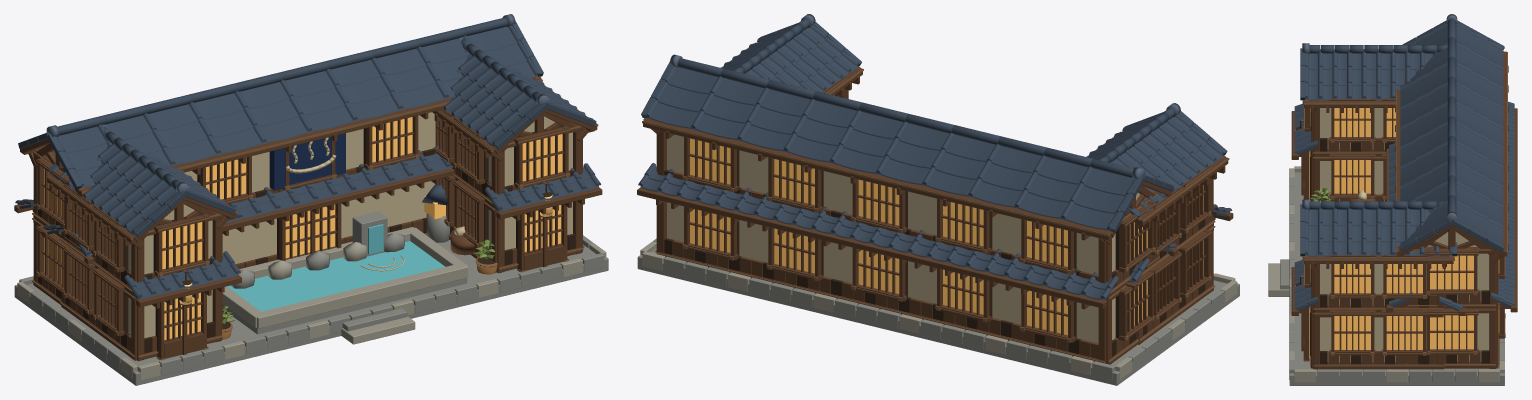
3 views of the same model, side by side, from view 1: azimuth 30°, elevation 25°; view 2: azimuth 150°, elevation 25°; view 3: azimuth 270°, elevation 25° (orthographic). The views are drawn at different scales.
Parts seen in each view (by area): view 1: compact_onsen_2_geometry, compact_onsen_2_geometry ceramic; view 2: compact_onsen_2_geometry, compact_onsen_2_geometry ceramic; view 3: compact_onsen_2_geometry, compact_onsen_2_geometry ceramic.
Part boxes in pixels (x1,y1,x2,y2): compact_onsen_2_geometry: [14, 76, 608, 385]; compact_onsen_2_geometry ceramic: [15, 14, 601, 299]; compact_onsen_2_geometry: [637, 27, 1239, 385]; compact_onsen_2_geometry ceramic: [638, 14, 1232, 300]; compact_onsen_2_geometry: [1268, 51, 1517, 385]; compact_onsen_2_geometry ceramic: [1294, 14, 1514, 311].
Bounding box in the file's own units: 1.99 × 0.7646 × 1.02.
